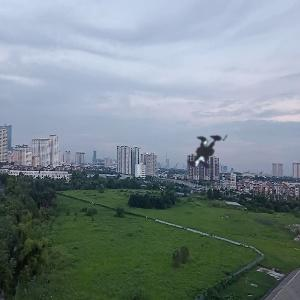drone: (166, 113, 247, 194)
